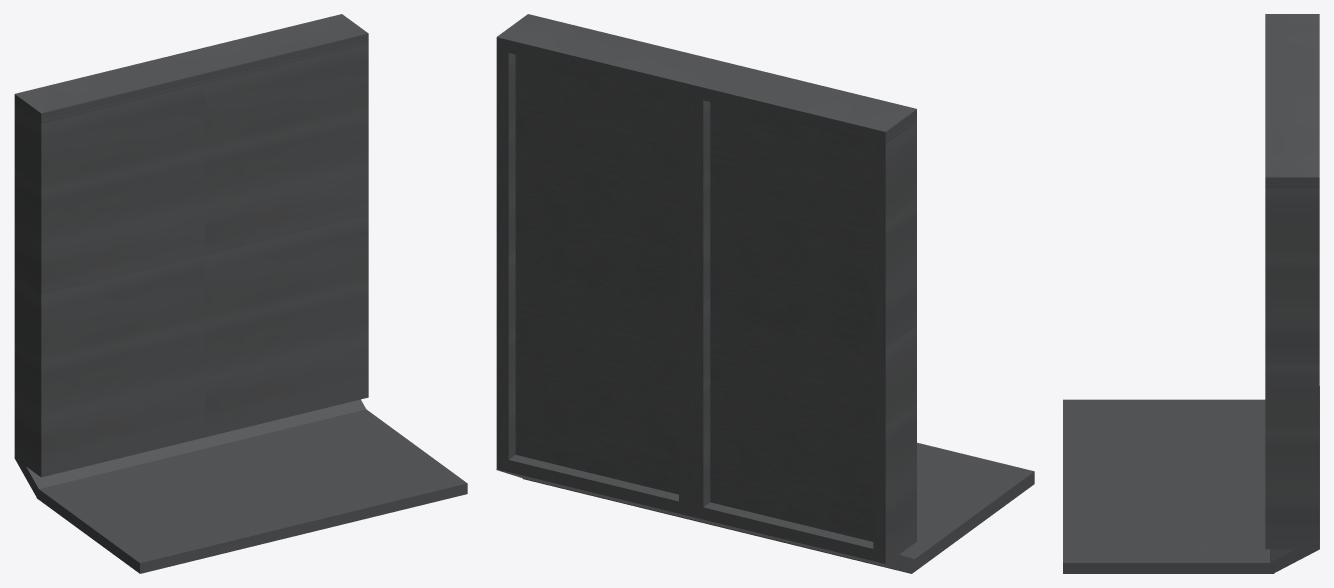
The model's file is metal_bridge_end.obj.
3 views of the same model, side by side, from view 1: azimuth 30°, elevation 25°; view 2: azimuth 150°, elevation 25°; view 3: azimuth 270°, elevation 25° (orthographic). The views are drawn at different scales.
Visible parts, largest first — view 1: cube; view 2: cube; view 3: cube.
Boxes of the visible parts, box(x1,y1,x2,y2) form: cube: box(14, 14, 467, 573); cube: box(496, 14, 1034, 573); cube: box(1063, 14, 1319, 573).
Bounding box in the file's own units: 2 × 2.27 × 1.33.
Materials: 1 (1 with a texture image).
